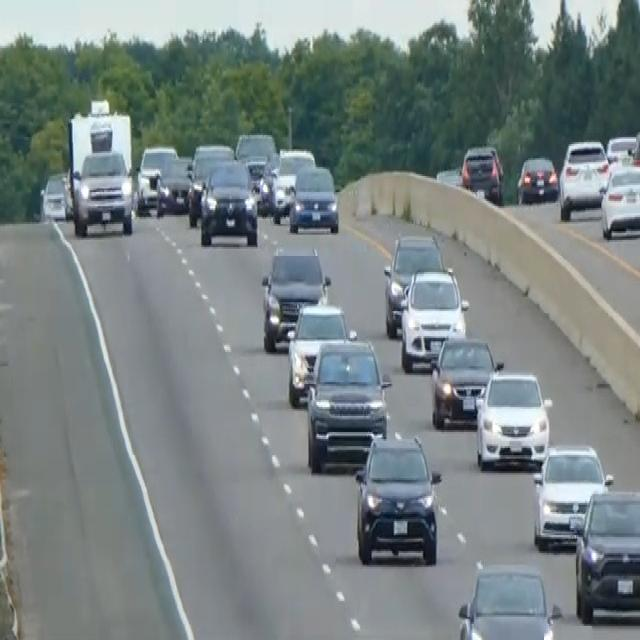car: (304, 334, 391, 471), (572, 485, 639, 624), (532, 441, 612, 549), (456, 560, 560, 638), (474, 366, 552, 469), (260, 242, 330, 350), (399, 265, 469, 371), (286, 299, 356, 405), (429, 329, 502, 428), (382, 231, 444, 336), (199, 157, 258, 247), (558, 137, 610, 219), (186, 142, 234, 226), (288, 162, 339, 234), (270, 146, 316, 222), (600, 160, 639, 240), (135, 142, 177, 214), (460, 143, 504, 205), (234, 130, 277, 192), (155, 153, 193, 215), (516, 153, 558, 204), (39, 170, 69, 220), (257, 150, 280, 213), (605, 134, 638, 164), (629, 126, 639, 169)
jeep: (352, 429, 443, 567)
truck: (65, 96, 135, 236)
